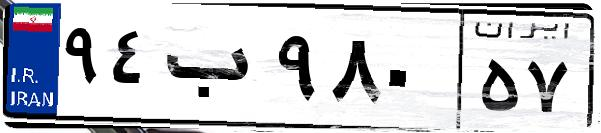0: (385, 28, 445, 110)
4: (110, 28, 158, 98)
5: (475, 38, 525, 113)
7: (525, 38, 570, 115)
8: (330, 28, 385, 110)
9: (270, 28, 330, 110), (57, 26, 110, 100)
ب: (158, 20, 270, 120)
